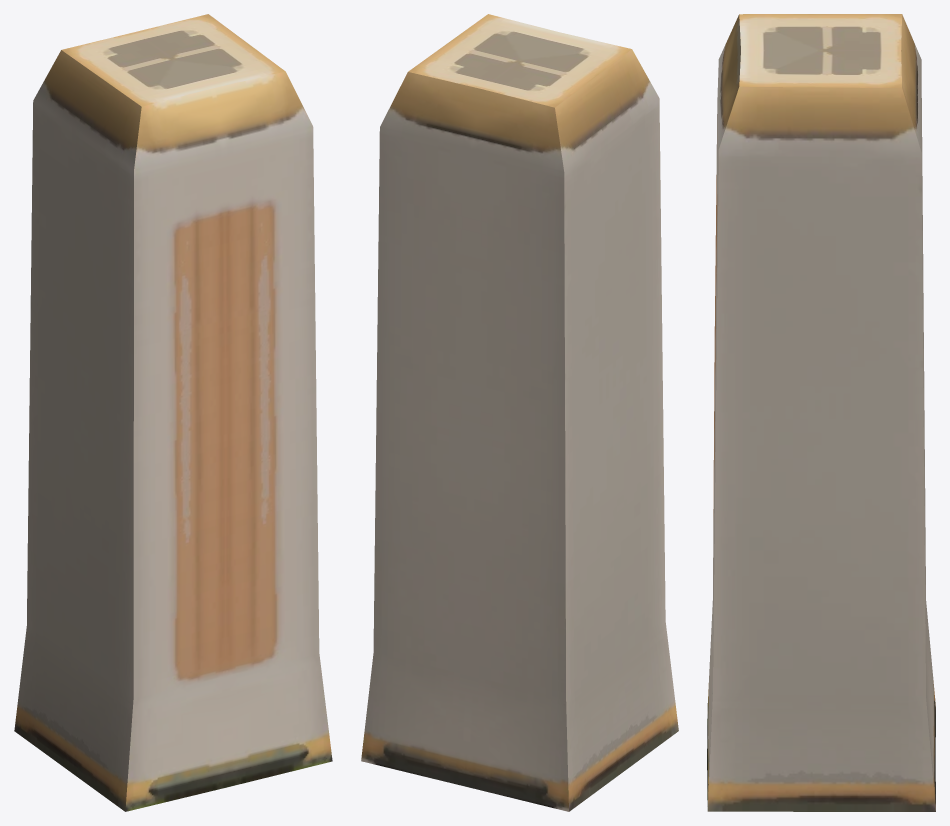
The model's file is railing_post.glb.
3 renders of one model, left to right at view 1: azimuth 30°, elevation 25°; view 2: azimuth 150°, elevation 25°; view 3: azimuth 270°, elevation 25°, orthographic. The views are drawn at different scales.
Visible parts, largest first — view 1: body; view 2: body; view 3: body.
Part boxes in pixels (<box>): body: <box>14,14,332,811</box>; body: <box>361,14,678,811</box>; body: <box>707,14,935,811</box>.
Bounding box in the file's own units: 0.39 × 1.23 × 0.3594.
Materials: 1 (1 with a texture image).
